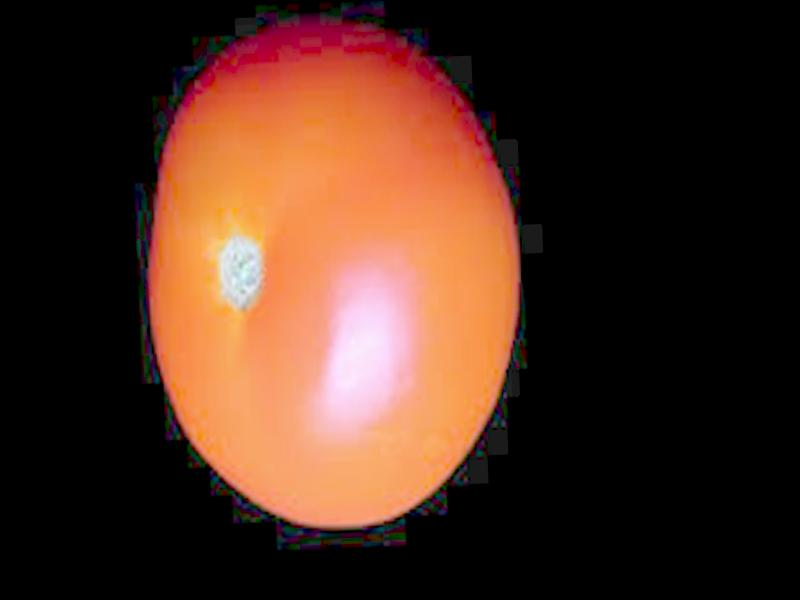Tomato: (139, 14, 527, 535)
